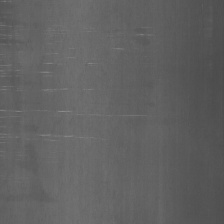waist_folding: (0, 16, 107, 161)
